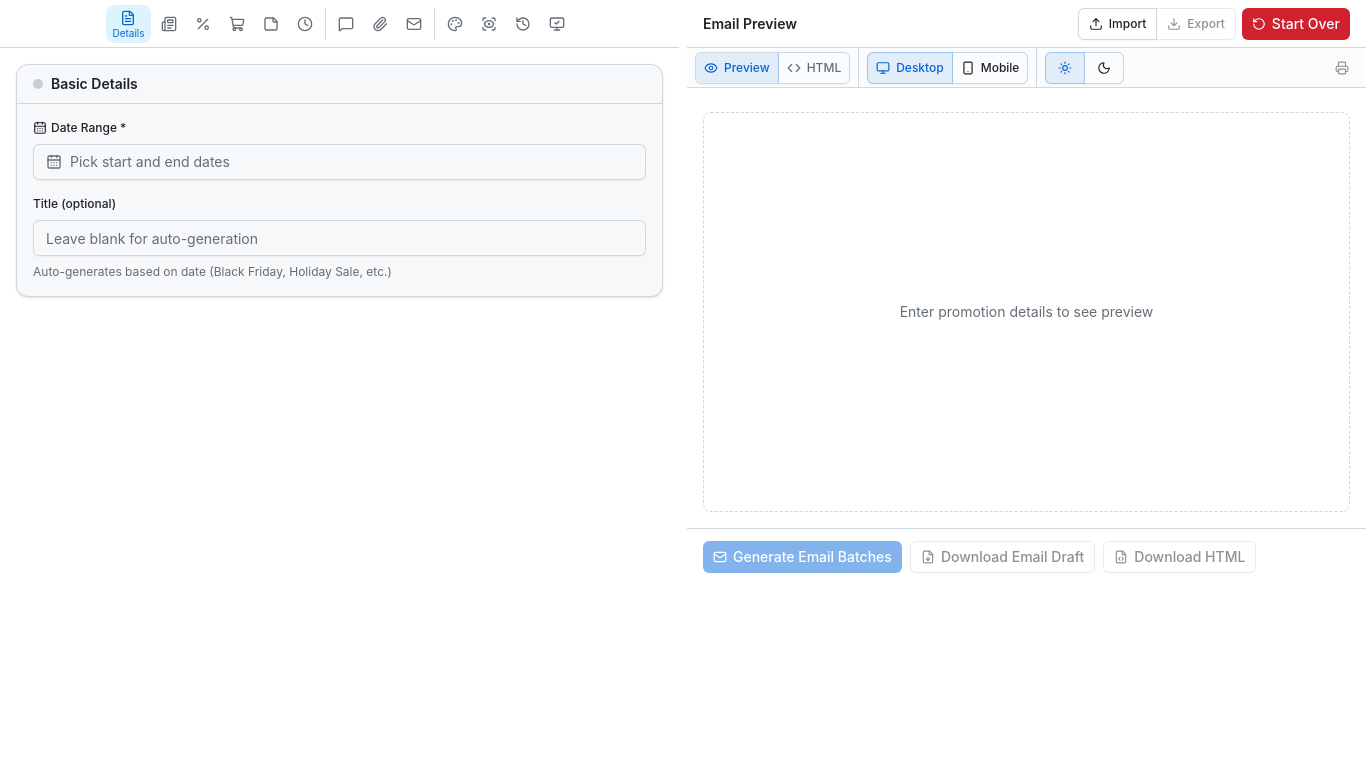
Test: PromotionPage Desktop Layout › keeps a single card mounted as tools are switched
Expected: the element that starts with "Basic Details" is shown, [16,64,663,297]
// Switch to How to Shop — still exactly one card, now that one.
Click the button with test id "toolbar-icon-howToShopCard" at coordinates (236, 24), box [220,4,252,42]
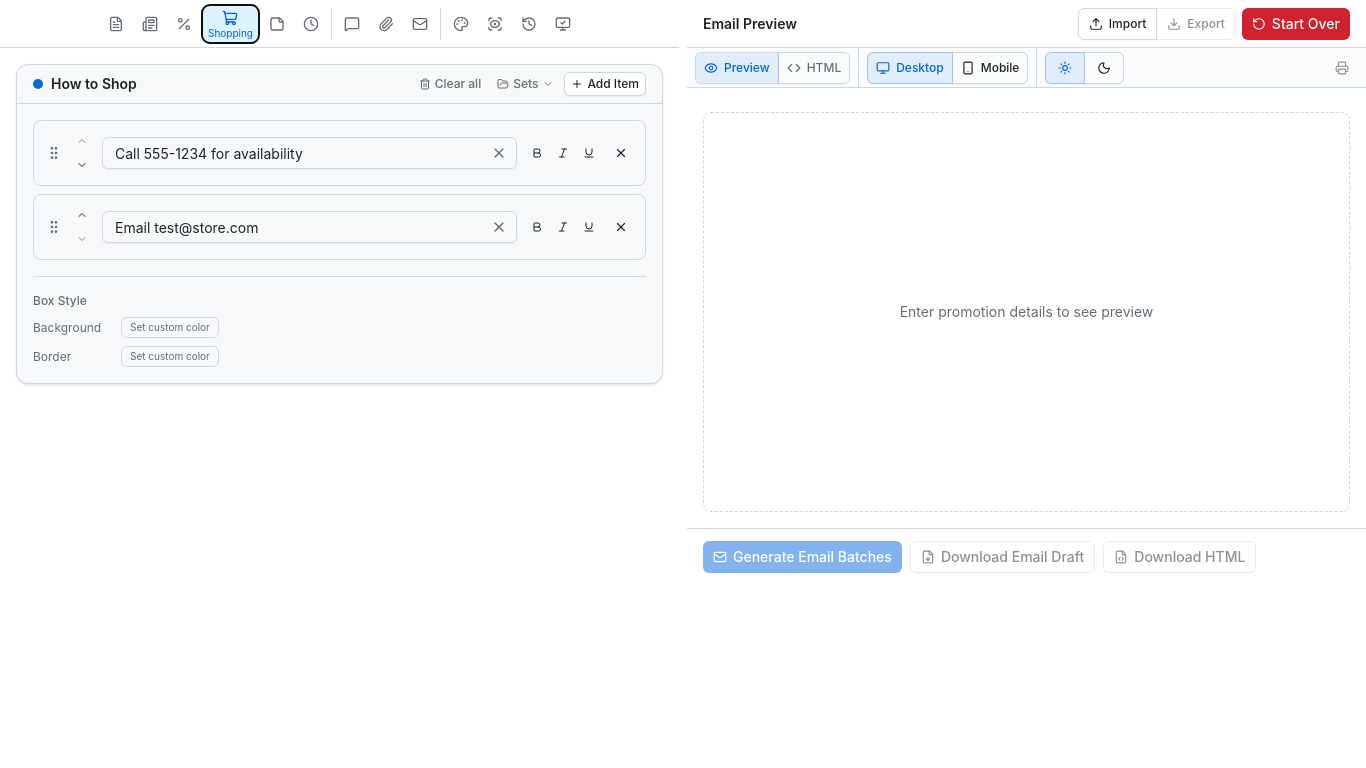
Result: the element that starts with "How to Shop" is shown at [16,64,663,384]
// Switch back to Basic Details.
Click the button with test id "toolbar-icon-basicDetailsCard" at coordinates (116, 24), box [100,4,132,42]
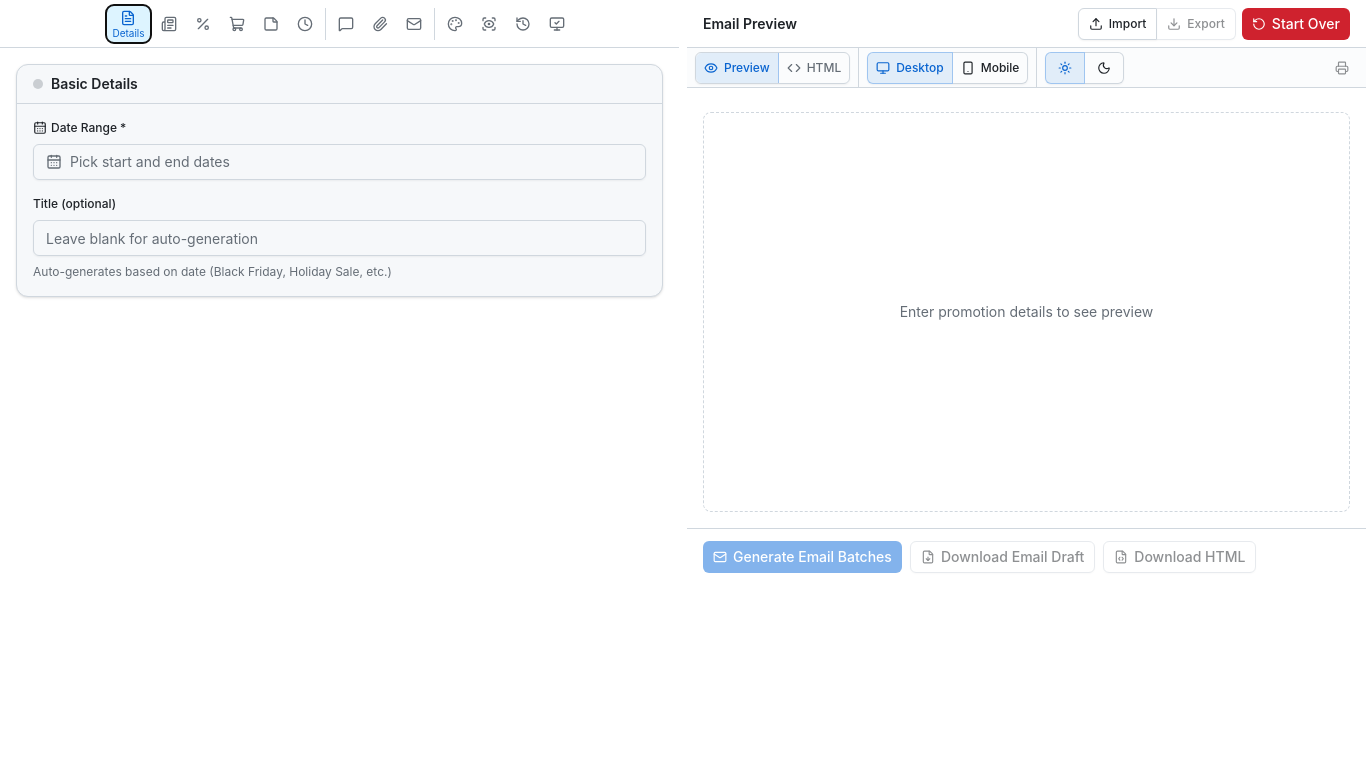
Result: the element that starts with "Basic Details" is shown at [16,64,663,297]
